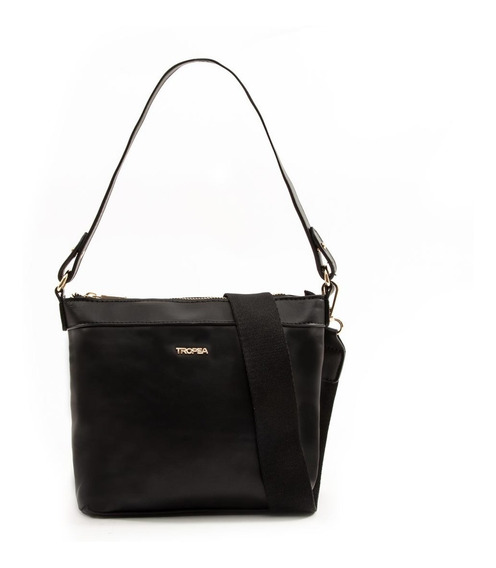cartera: (53, 57, 347, 519)
